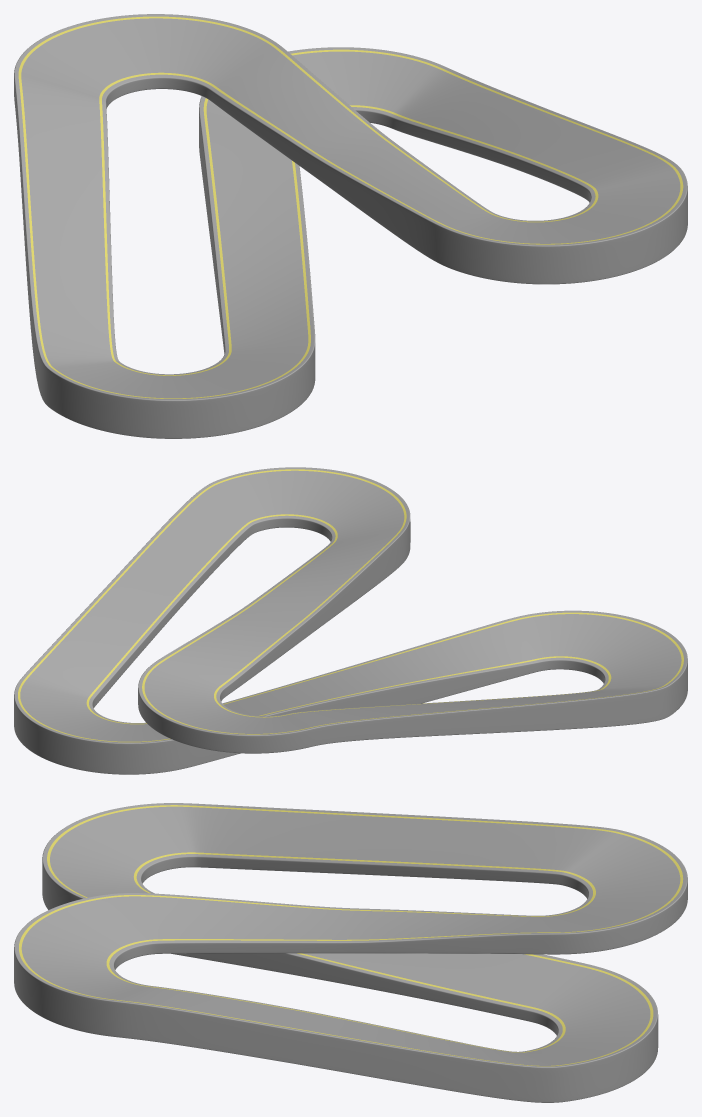
Rendered from Ph_Circuit_Mince.fbx.
3 views of the same model, one above another, from view 1: azimuth 30°, elevation 25°; view 2: azimuth 150°, elevation 25°; view 3: azimuth 270°, elevation 25° (orthographic). The views are drawn at different scales.
Visible parts, largest first — view 1: polySurface8; view 2: polySurface8; view 3: polySurface8.
Part boxes in pixels (bbox=[...]): polySurface8: bbox=[14, 14, 687, 438]; polySurface8: bbox=[14, 467, 687, 774]; polySurface8: bbox=[14, 803, 687, 1102].
Size of the model in its own units: 4.85 by 0.8963 by 5.04.
